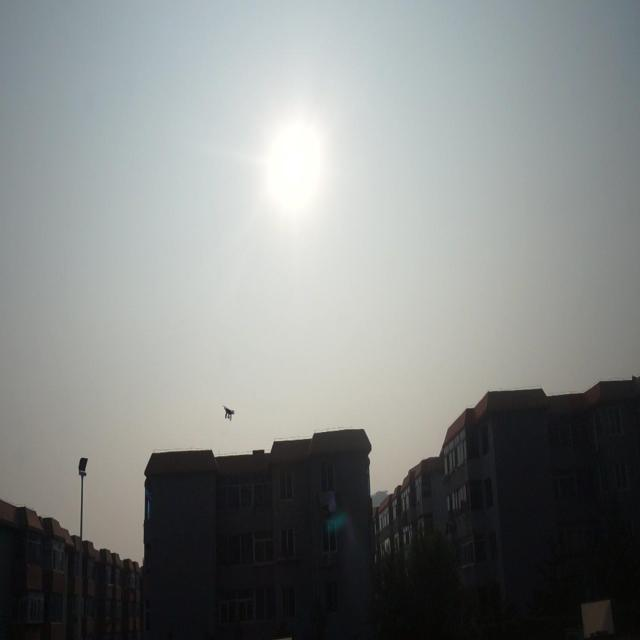drone: (222, 402, 236, 422)
